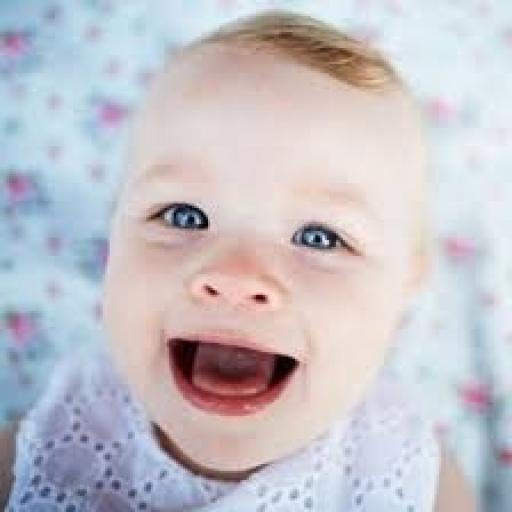laughing: (0, 2, 510, 510)
